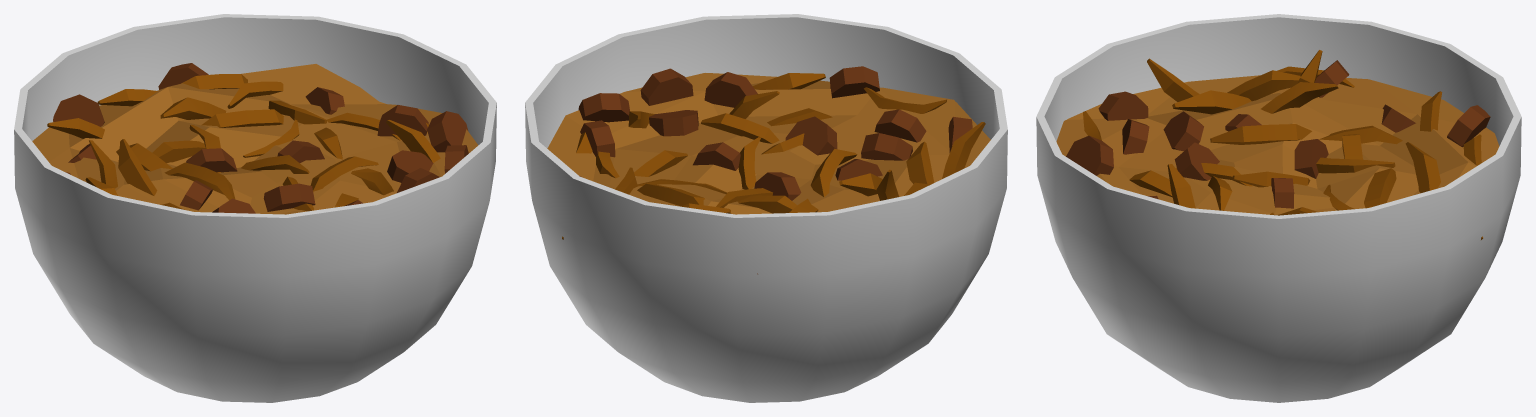
Rendered from mdl_poland_bigos.gltf.
The picture shows the model from 3 angles, left to right: view 1: azimuth 30°, elevation 25°; view 2: azimuth 150°, elevation 25°; view 3: azimuth 270°, elevation 25°; orthographic projection.
Visible parts, largest first — view 1: Cylinder.017, Cylinder.018, Cube.069, Cylinder.024; view 2: Cylinder.017, Cylinder.018, Cube.069, Cylinder.024; view 3: Cylinder.017, Cylinder.018, Cube.069, Cylinder.024.
Part boxes in pixels (bbox=[...]): Cylinder.017: bbox=[14, 14, 496, 402]; Cylinder.018: bbox=[32, 64, 478, 214]; Cube.069: bbox=[47, 74, 440, 211]; Cylinder.024: bbox=[53, 63, 468, 213]; Cylinder.017: bbox=[525, 14, 1007, 402]; Cylinder.018: bbox=[547, 73, 990, 214]; Cube.069: bbox=[562, 73, 985, 239]; Cylinder.024: bbox=[578, 66, 972, 274]; Cylinder.017: bbox=[1036, 14, 1521, 402]; Cylinder.018: bbox=[1056, 75, 1499, 215]; Cube.069: bbox=[1083, 50, 1483, 239]; Cylinder.024: bbox=[1066, 60, 1490, 208].
Bounding box in the file's own units: 0.6 × 0.3168 × 0.6.
2 materials, 2 textured.
